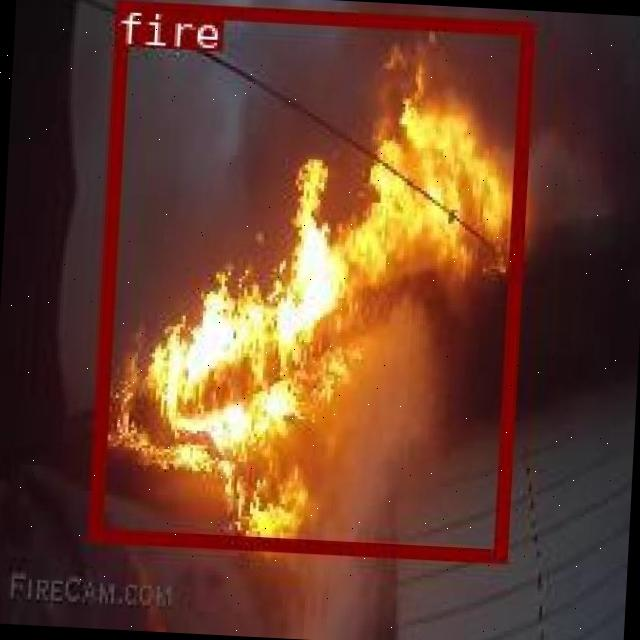fire: (87, 0, 531, 559)
